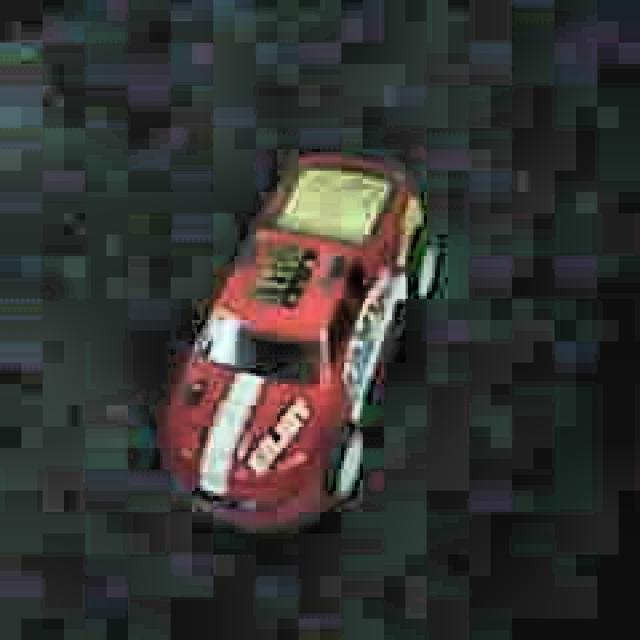car: (153, 145, 442, 536)
